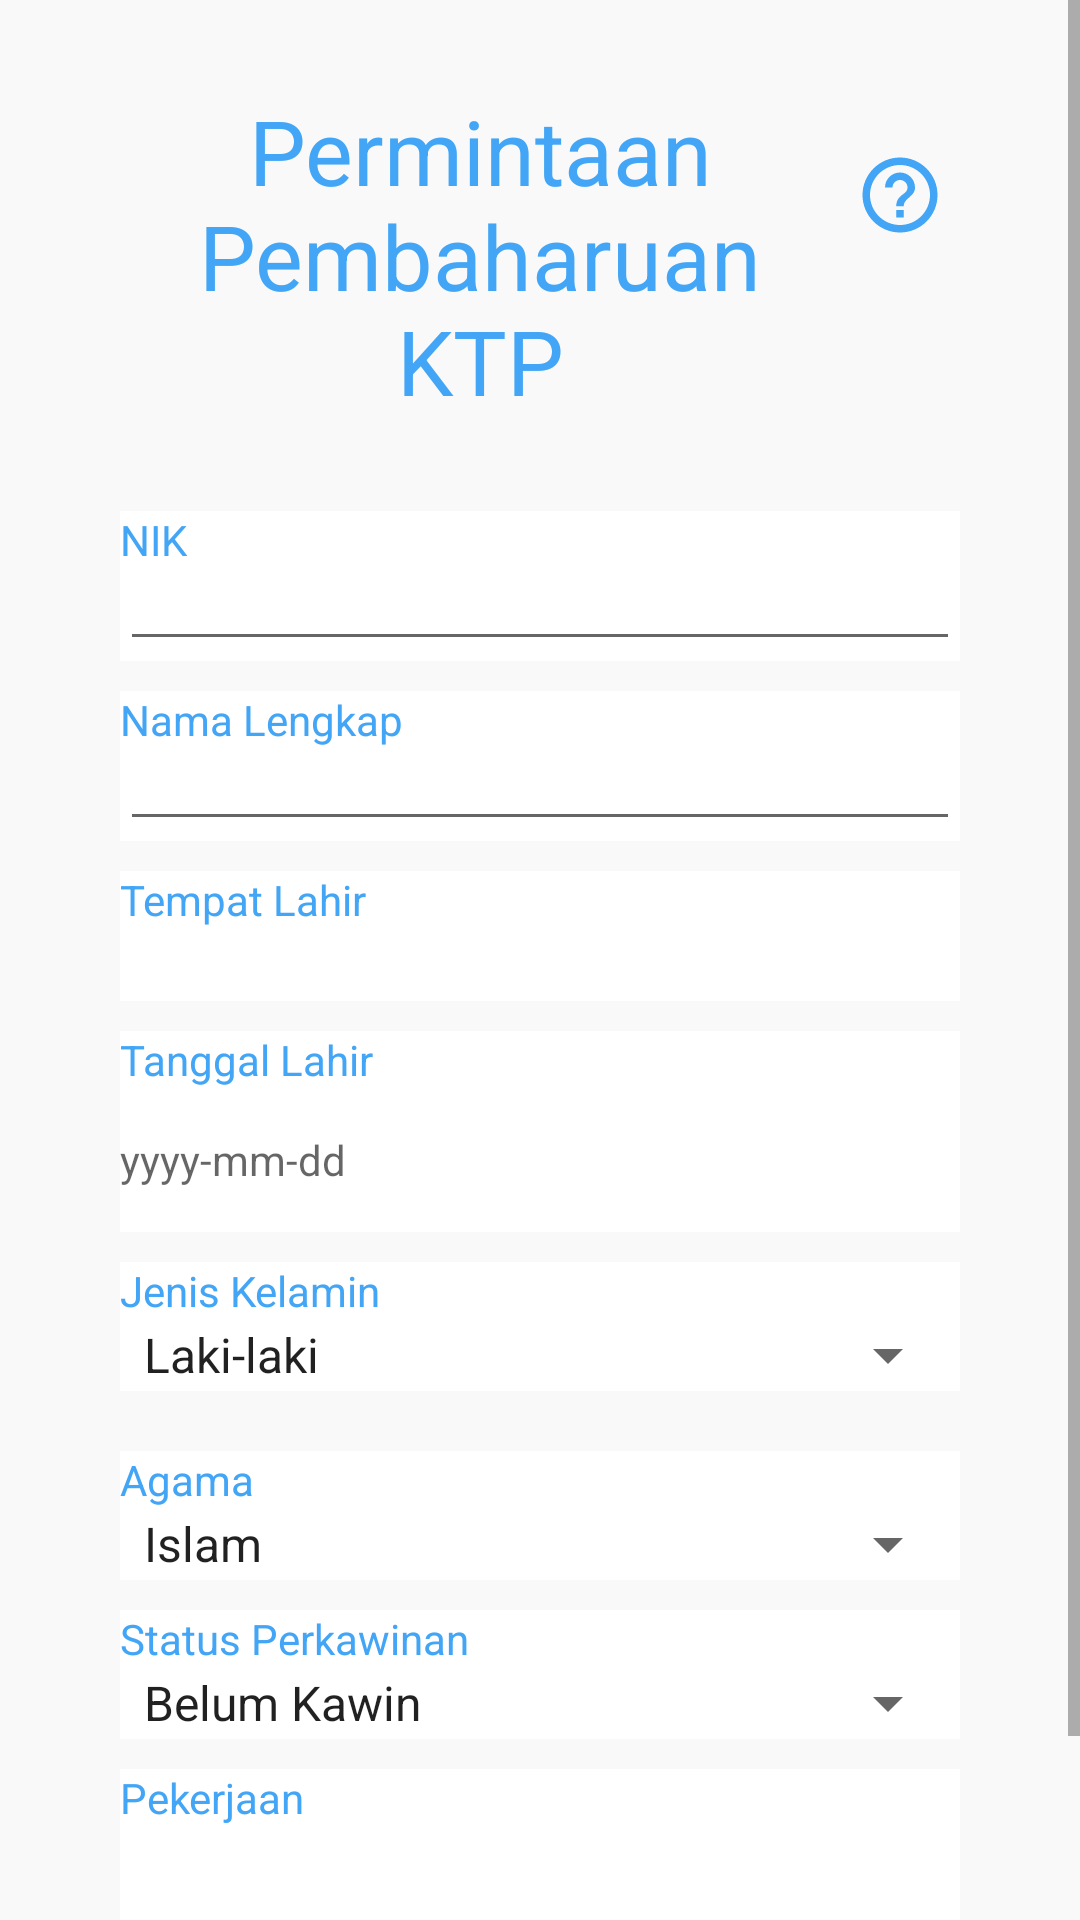

Where icons sit on this 1080 × 1920 app screen, as [x1=x1, y1=y1, x2=x2, y2=y2]:
help: [x1=862, y1=157, x2=938, y2=233]
